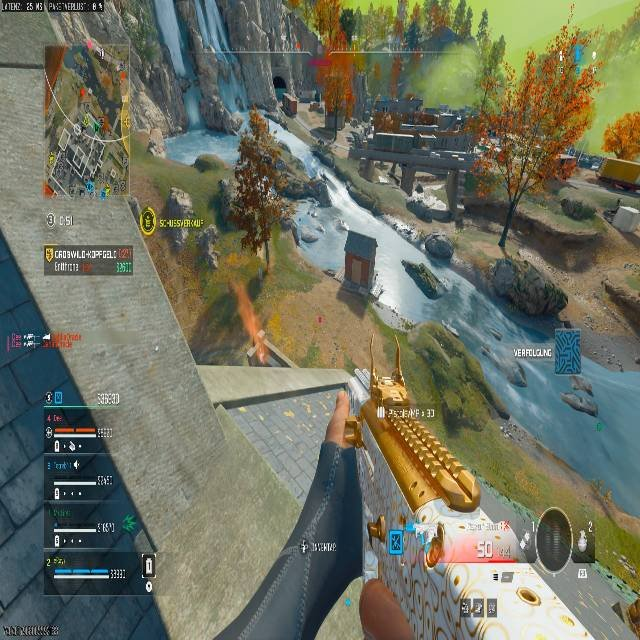player: (196, 226, 219, 269)
